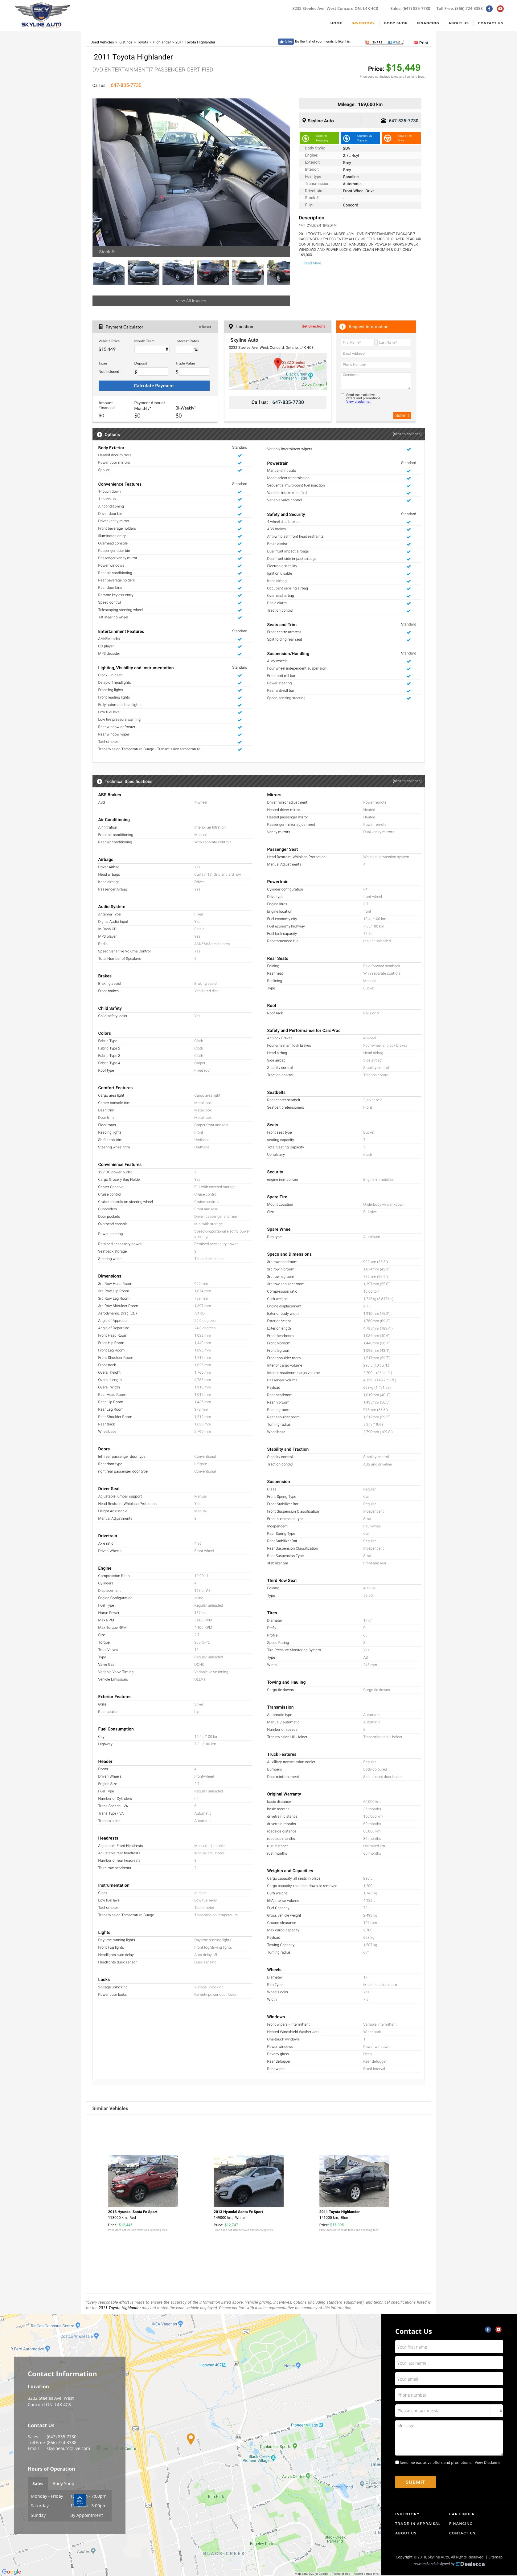car: (277, 166, 291, 179)
